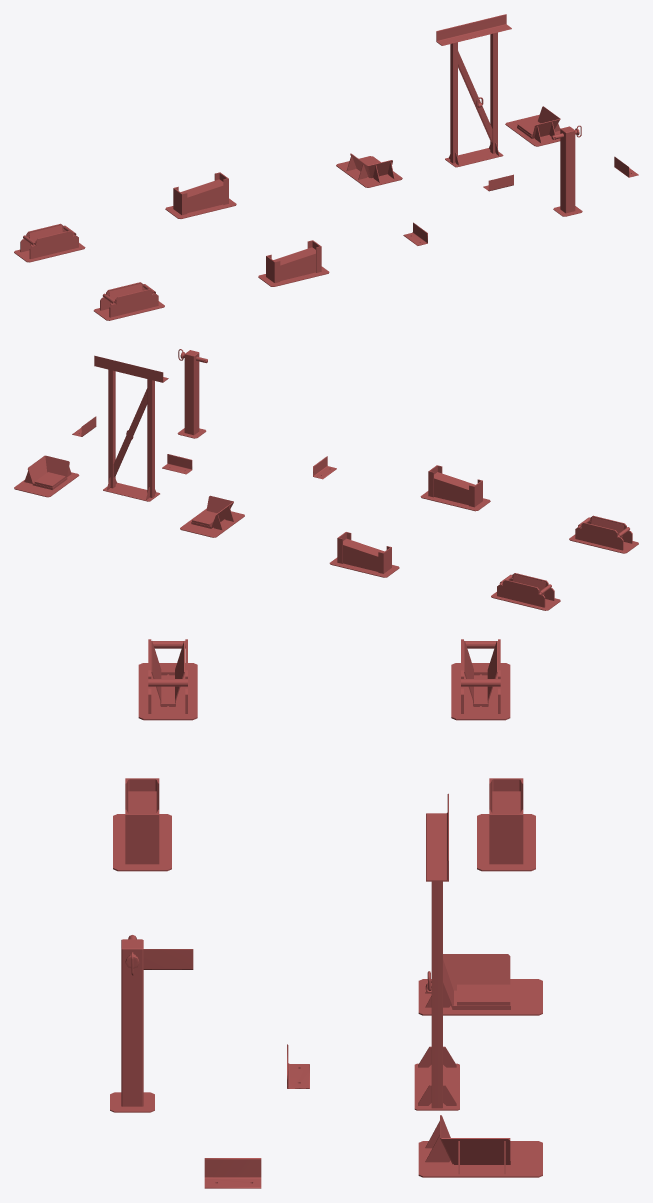
Rendered from SM_ShippingContainer_Fixtures_03.fbx.
3 views of the same model, one above another, from view 1: azimuth 30°, elevation 25°; view 2: azimuth 150°, elevation 25°; view 3: azimuth 270°, elevation 25° (orthographic). The views are drawn at different scales.
Parts seen in each view (by area): view 1: Cube.001; view 2: Cube.001; view 3: Cube.001.
Boxes of the visible parts, <box> form: Cube.001: <box>14,14,638,320</box>; Cube.001: <box>14,349,638,610</box>; Cube.001: <box>110,639,542,1188</box>.
Size of the model in its own units: 548 by 127 by 191.
